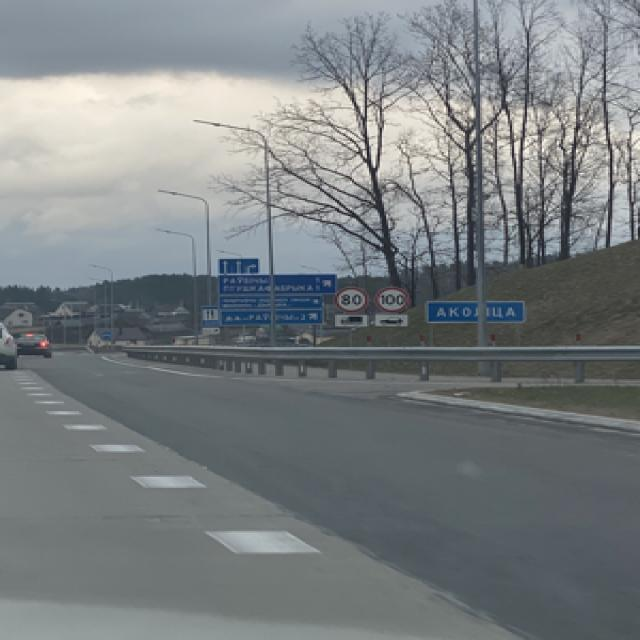speedlimit: (330, 285, 364, 312), (374, 285, 406, 310)
